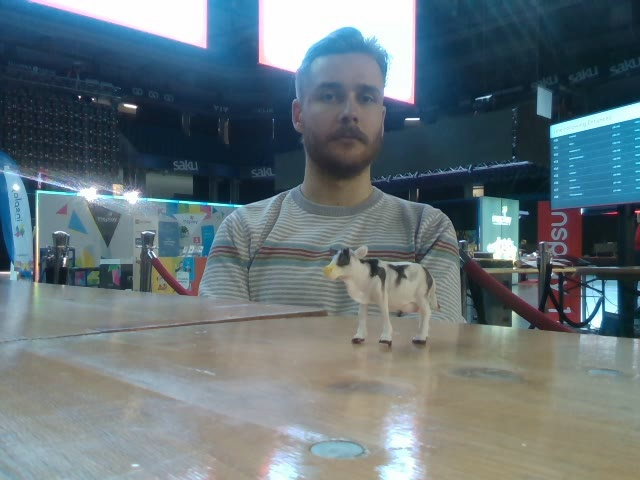toy: (324, 243, 439, 346)
